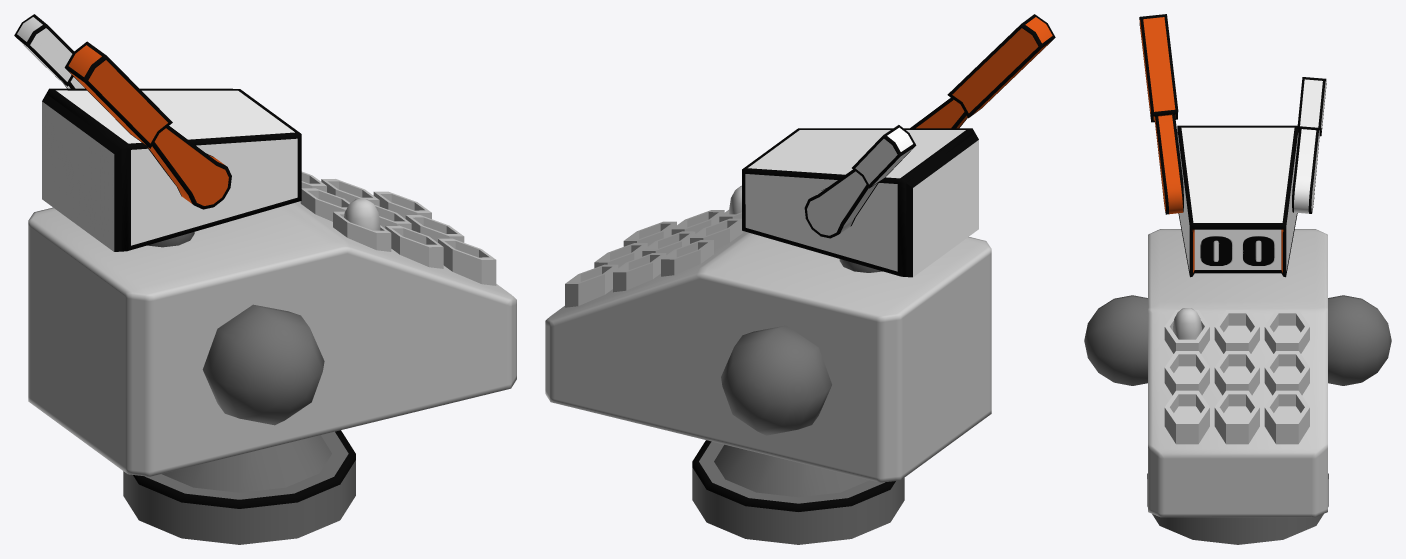
Rendered from PlayerTorsoSAM.fbx.
3 views of the same model, side by side, from view 1: azimuth 30°, elevation 25°; view 2: azimuth 150°, elevation 25°; view 3: azimuth 270°, elevation 25° (orthographic). The views are drawn at different scales.
Visible parts, largest first — view 1: Mech Torso SAM, SAM misile; view 2: Mech Torso SAM; view 3: Mech Torso SAM, SAM misile.
Boxes of the visible parts, left/top/right/bottom form: Mech Torso SAM: left=14, top=14, right=516, bottom=544; SAM misile: left=344, top=198, right=380, bottom=230; Mech Torso SAM: left=545, top=14, right=1055, bottom=544; Mech Torso SAM: left=1084, top=14, right=1391, bottom=544; SAM misile: left=1173, top=308, right=1201, bottom=339.
Bounding box in the file's own units: 1.35 × 1.77 × 2.03.
